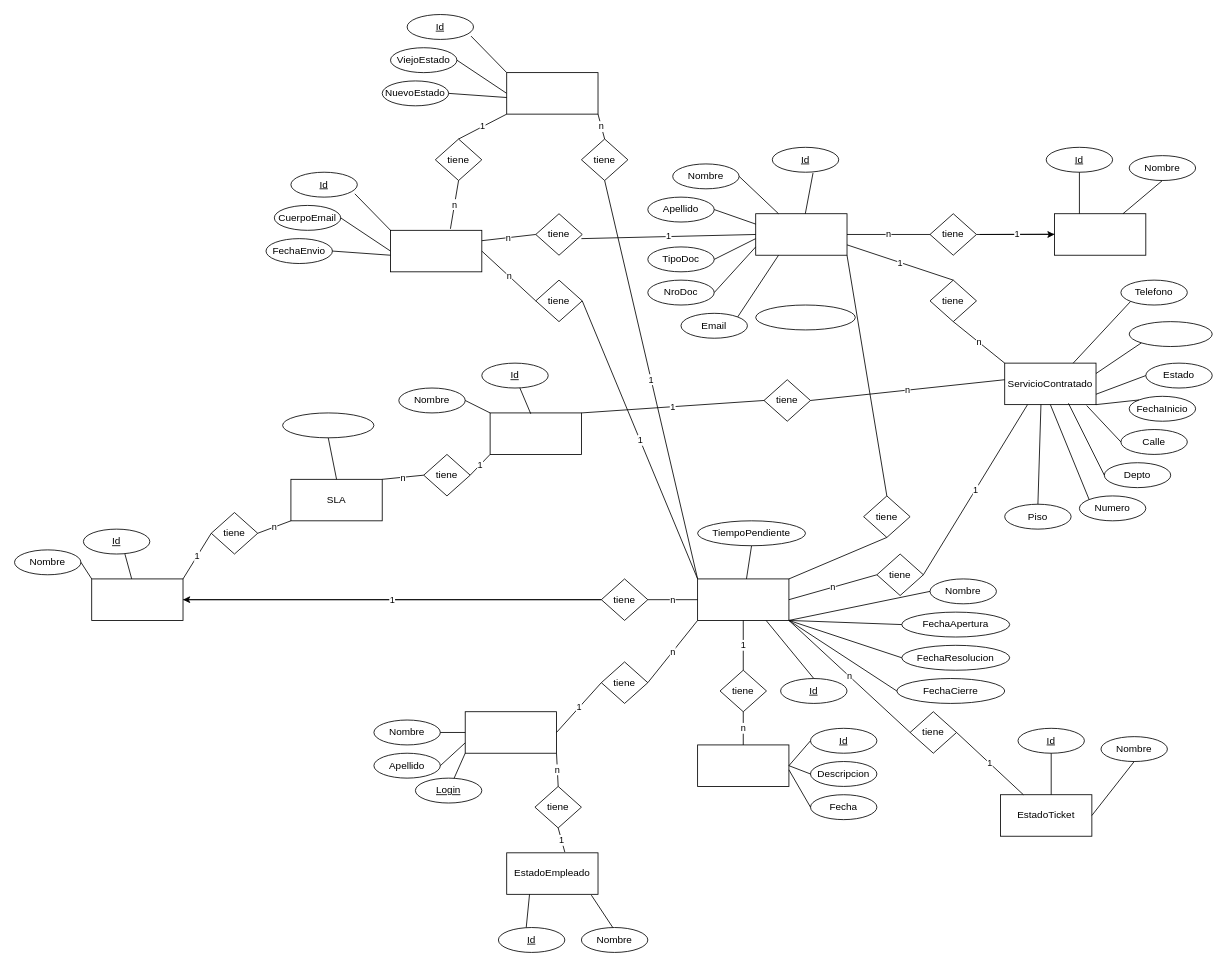
The diagram is 1227 pixels wide and 967 high, and some of its shapes have lost their labels. Here are the shapes that lost their labels. From the top down, the centre of each, then its label:
At (552,93): "HistorialEstados".
At (436,250): "Notificacion".
At (801,234): "Clientes".
At (1100,234): "EstadoCliente".
At (805,317): "FechaNacimiento".
At (1170,334): "NroServicio".
At (328,425): "tiempoMaximo".
At (535,433): "Servicios".
At (137,599): "Tipologia".
At (743,599): "Ticket".
At (510,732): "Empleado".
At (743,765): "Actividad".
